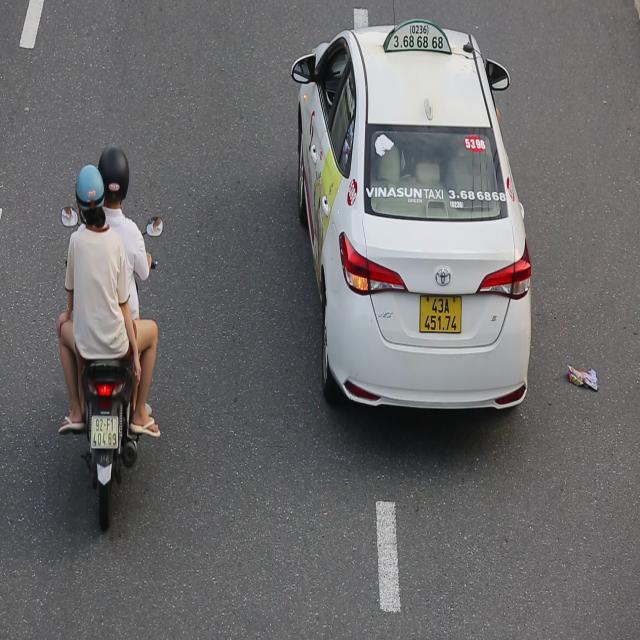motorbike: (46, 132, 165, 530)
